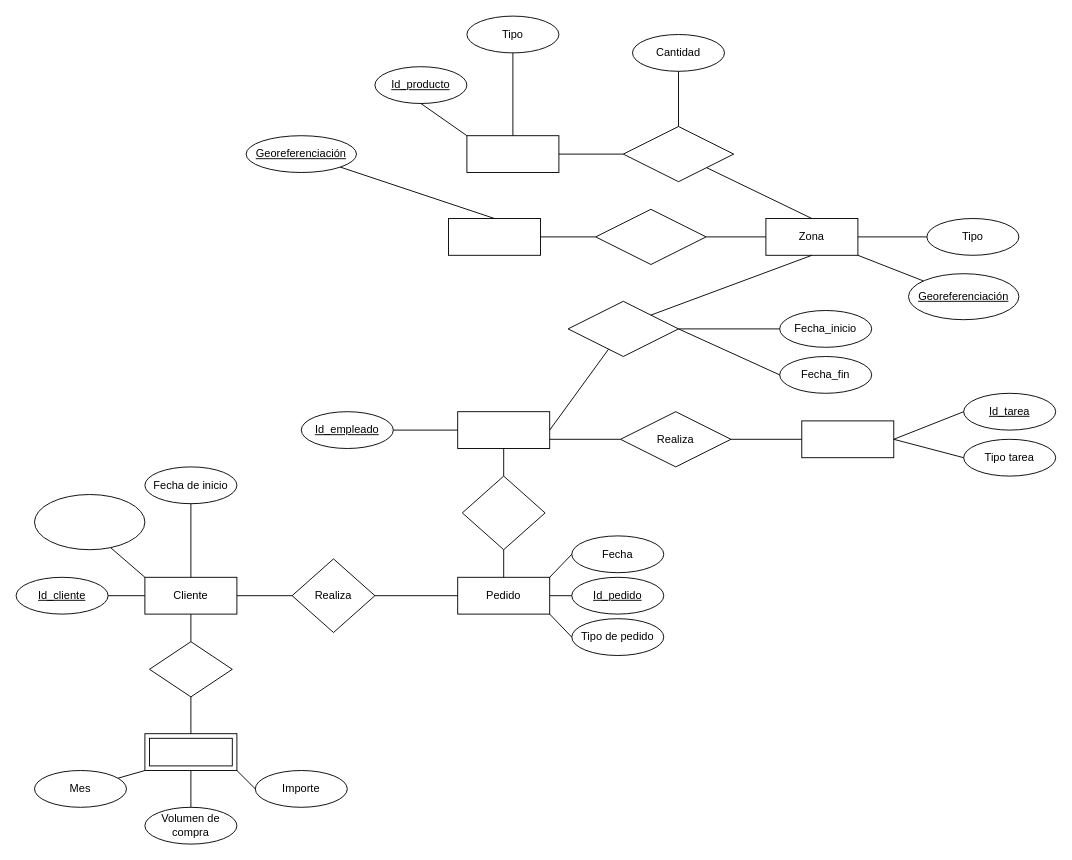
Some shapes in this 1072 by 860 pixel diagram are drawn without their labels. Here are the shapes that lost their labels. From the top down, the centre of each, then its label:
(512,153): Producto
(678,154): Contiene
(494,236): Vivero
(650,236): Compuesto por
(622,328): Trabaja en
(503,429): Empleado
(847,439): Tarea
(89,522): Miembro Tajinaste Plus
(503,512): Gestiona
(190,669): Recibe
(190,751): Bonificación
